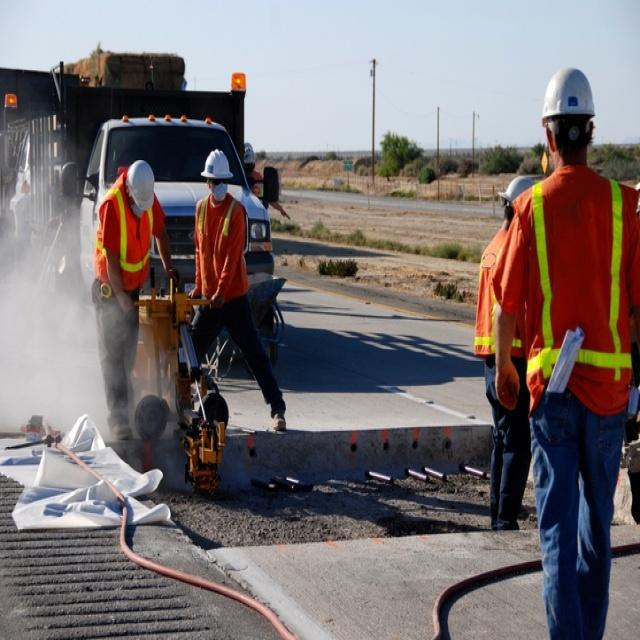helmet: (542, 85, 599, 216), (501, 232, 536, 301), (123, 212, 154, 287), (202, 194, 231, 266)
vest: (504, 231, 637, 528), (93, 246, 159, 394), (193, 267, 252, 412)
